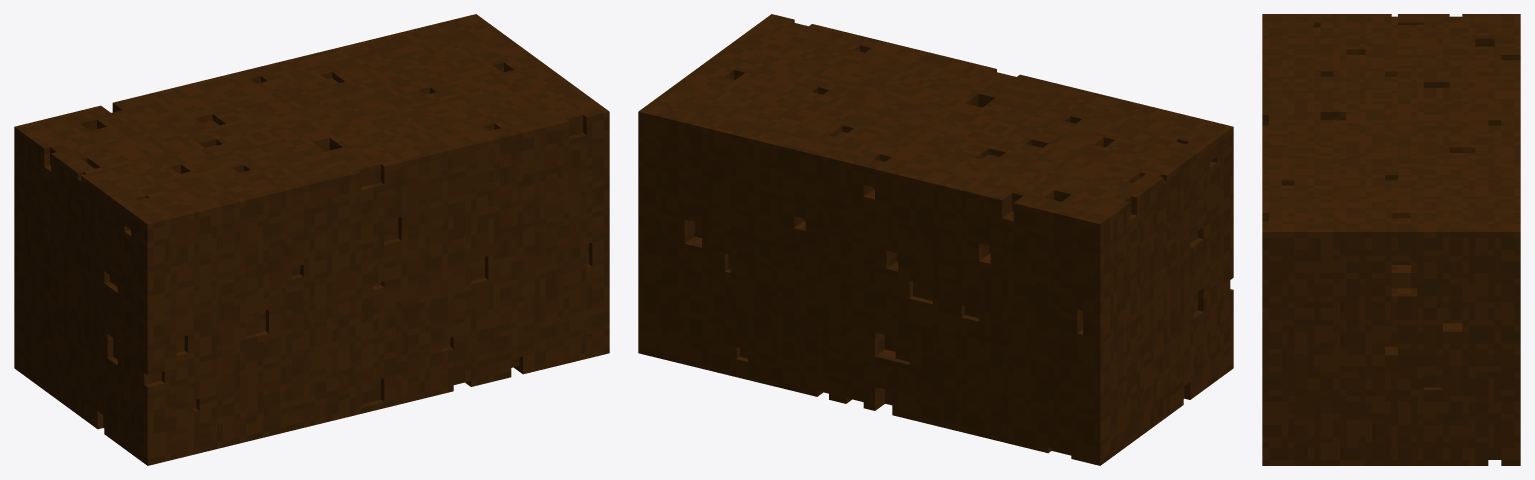
Rendered from LargeRocks-4-Rock2_LOD1.obj.
3 renders of one model, left to right at view 1: azimuth 30°, elevation 25°; view 2: azimuth 150°, elevation 25°; view 3: azimuth 270°, elevation 25°, orthographic. The views are drawn at different scales.
Parts seen in each view (by area): view 1: Rock2_LOD1; view 2: Rock2_LOD1; view 3: Rock2_LOD1.
Boxes of the visible parts, x1,y1,x2,y2 form: Rock2_LOD1: [14, 14, 609, 465]; Rock2_LOD1: [638, 14, 1233, 465]; Rock2_LOD1: [1262, 14, 1520, 465].
Size of the model in its own units: 8 by 4 by 4.
1 material, 1 textured.
